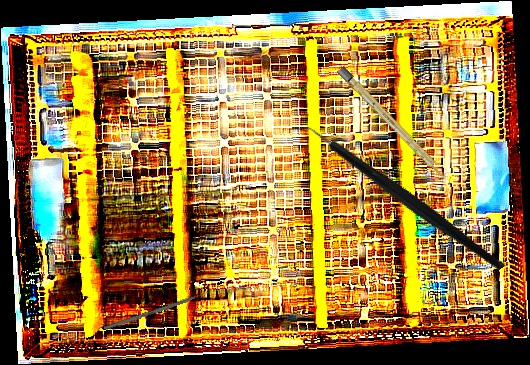Chopper: (287, 70, 506, 325)
Pusher: (103, 287, 219, 331)
Scalpel Handle: (336, 65, 450, 182)
